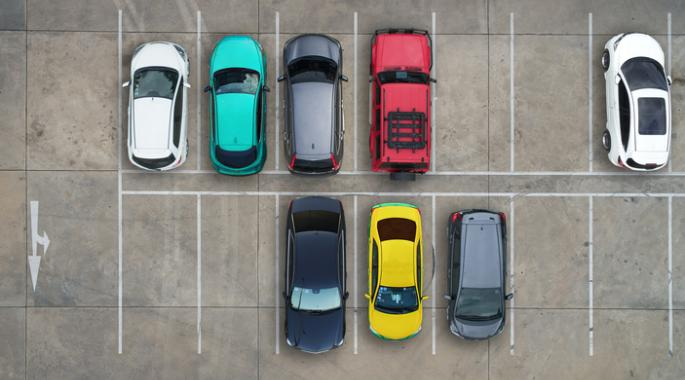car: (591, 31, 681, 178), (360, 27, 440, 183), (280, 196, 352, 360), (276, 30, 354, 180), (359, 197, 433, 346), (201, 34, 274, 183), (122, 36, 197, 178), (441, 205, 516, 345)
